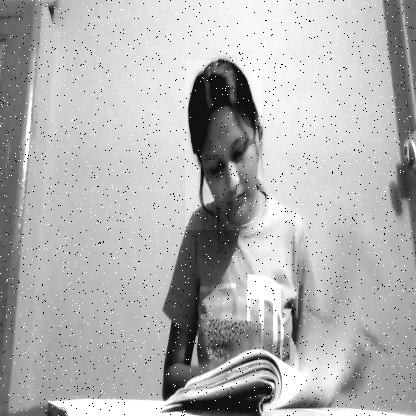Normal: (185, 60, 262, 230)
